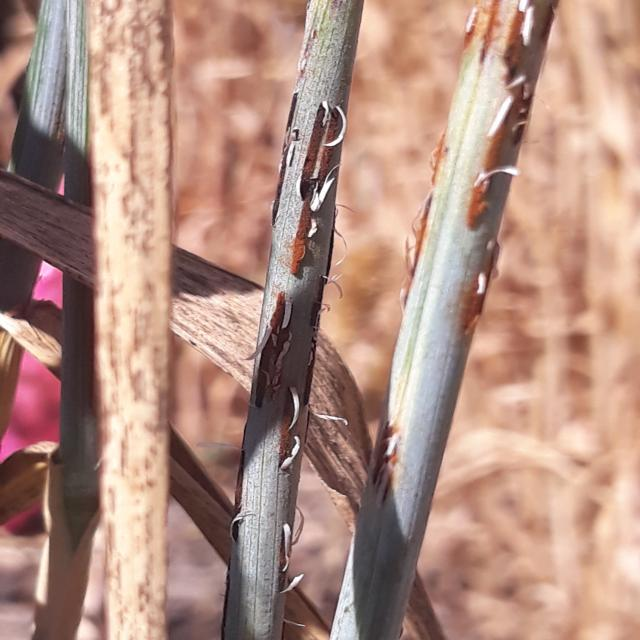black_stem_rust: (11, 0, 566, 640)
